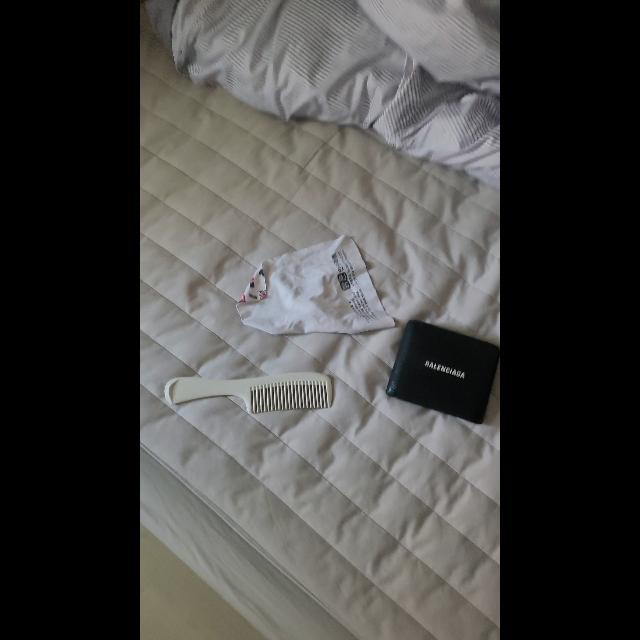COMB: (164, 371, 332, 414)
Glasses cleaning cloth: (235, 235, 395, 335)
WALLET: (384, 320, 500, 424)
